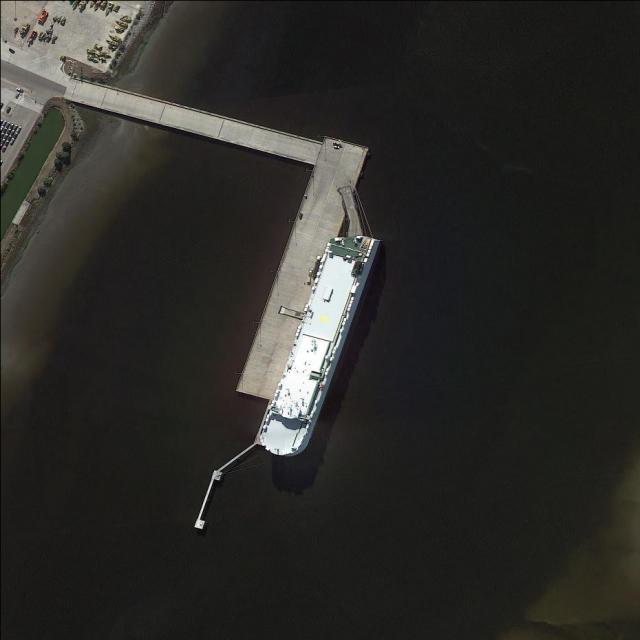Dock: (234, 131, 367, 408)
RoRo: (255, 229, 376, 463)
